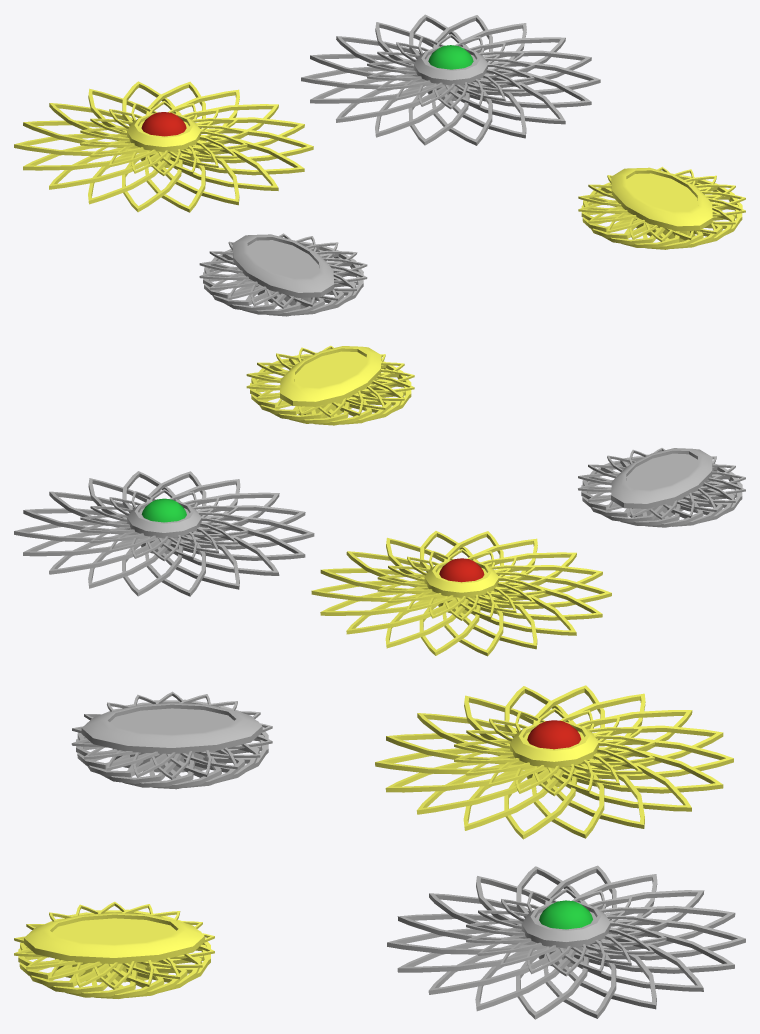
File: Cullons_1.fbx
3 renders of one model, top to bottom at view 1: azimuth 30°, elevation 25°; view 2: azimuth 150°, elevation 25°; view 3: azimuth 270°, elevation 25°, orthographic. The views are drawn at different scales.
Visible parts, largest first — view 1: SM_Cullon_1_1, SM_Cullon_14_1, SM_Cullon_15_1, SM_Cullon_3_1; view 2: SM_Cullon_14_1, SM_Cullon_1_1, SM_Cullon_15_1, SM_Cullon_3_1; view 3: SM_Cullon_1_1, SM_Cullon_14_1, SM_Cullon_3_1, SM_Cullon_15_1.
Part boxes in pixels (x1,y1,x2,y2): SM_Cullon_1_1: (301, 14, 600, 145); SM_Cullon_14_1: (14, 81, 313, 212); SM_Cullon_15_1: (578, 166, 745, 249); SM_Cullon_3_1: (199, 233, 367, 316); SM_Cullon_14_1: (311, 531, 611, 656); SM_Cullon_1_1: (14, 471, 314, 596); SM_Cullon_15_1: (246, 345, 414, 425); SM_Cullon_3_1: (578, 448, 745, 527); SM_Cullon_1_1: (387, 865, 745, 1019); SM_Cullon_14_1: (375, 685, 733, 839); SM_Cullon_3_1: (71, 691, 272, 789); SM_Cullon_15_1: (14, 901, 214, 998).
Bounding box in the file's own units: 25.85 × 2.32 × 24.97.
